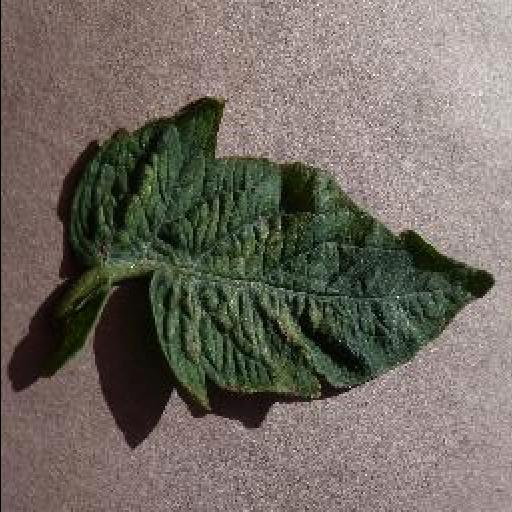disease_tomato: (61, 99, 499, 411)
